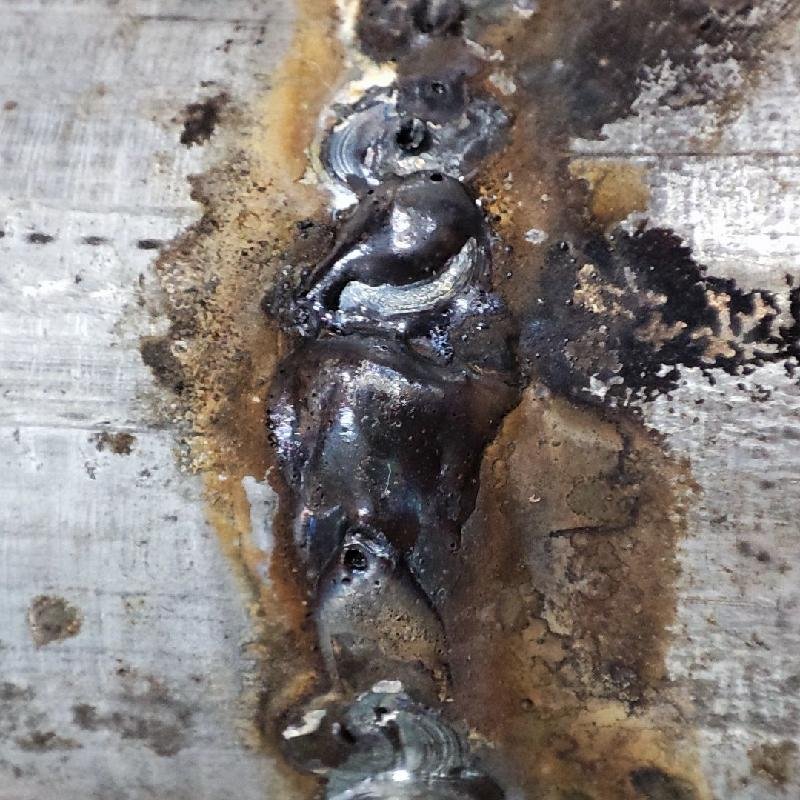Not_fully_soldered: (341, 1, 513, 180), (295, 542, 462, 710)
Weld: (281, 165, 517, 536)
